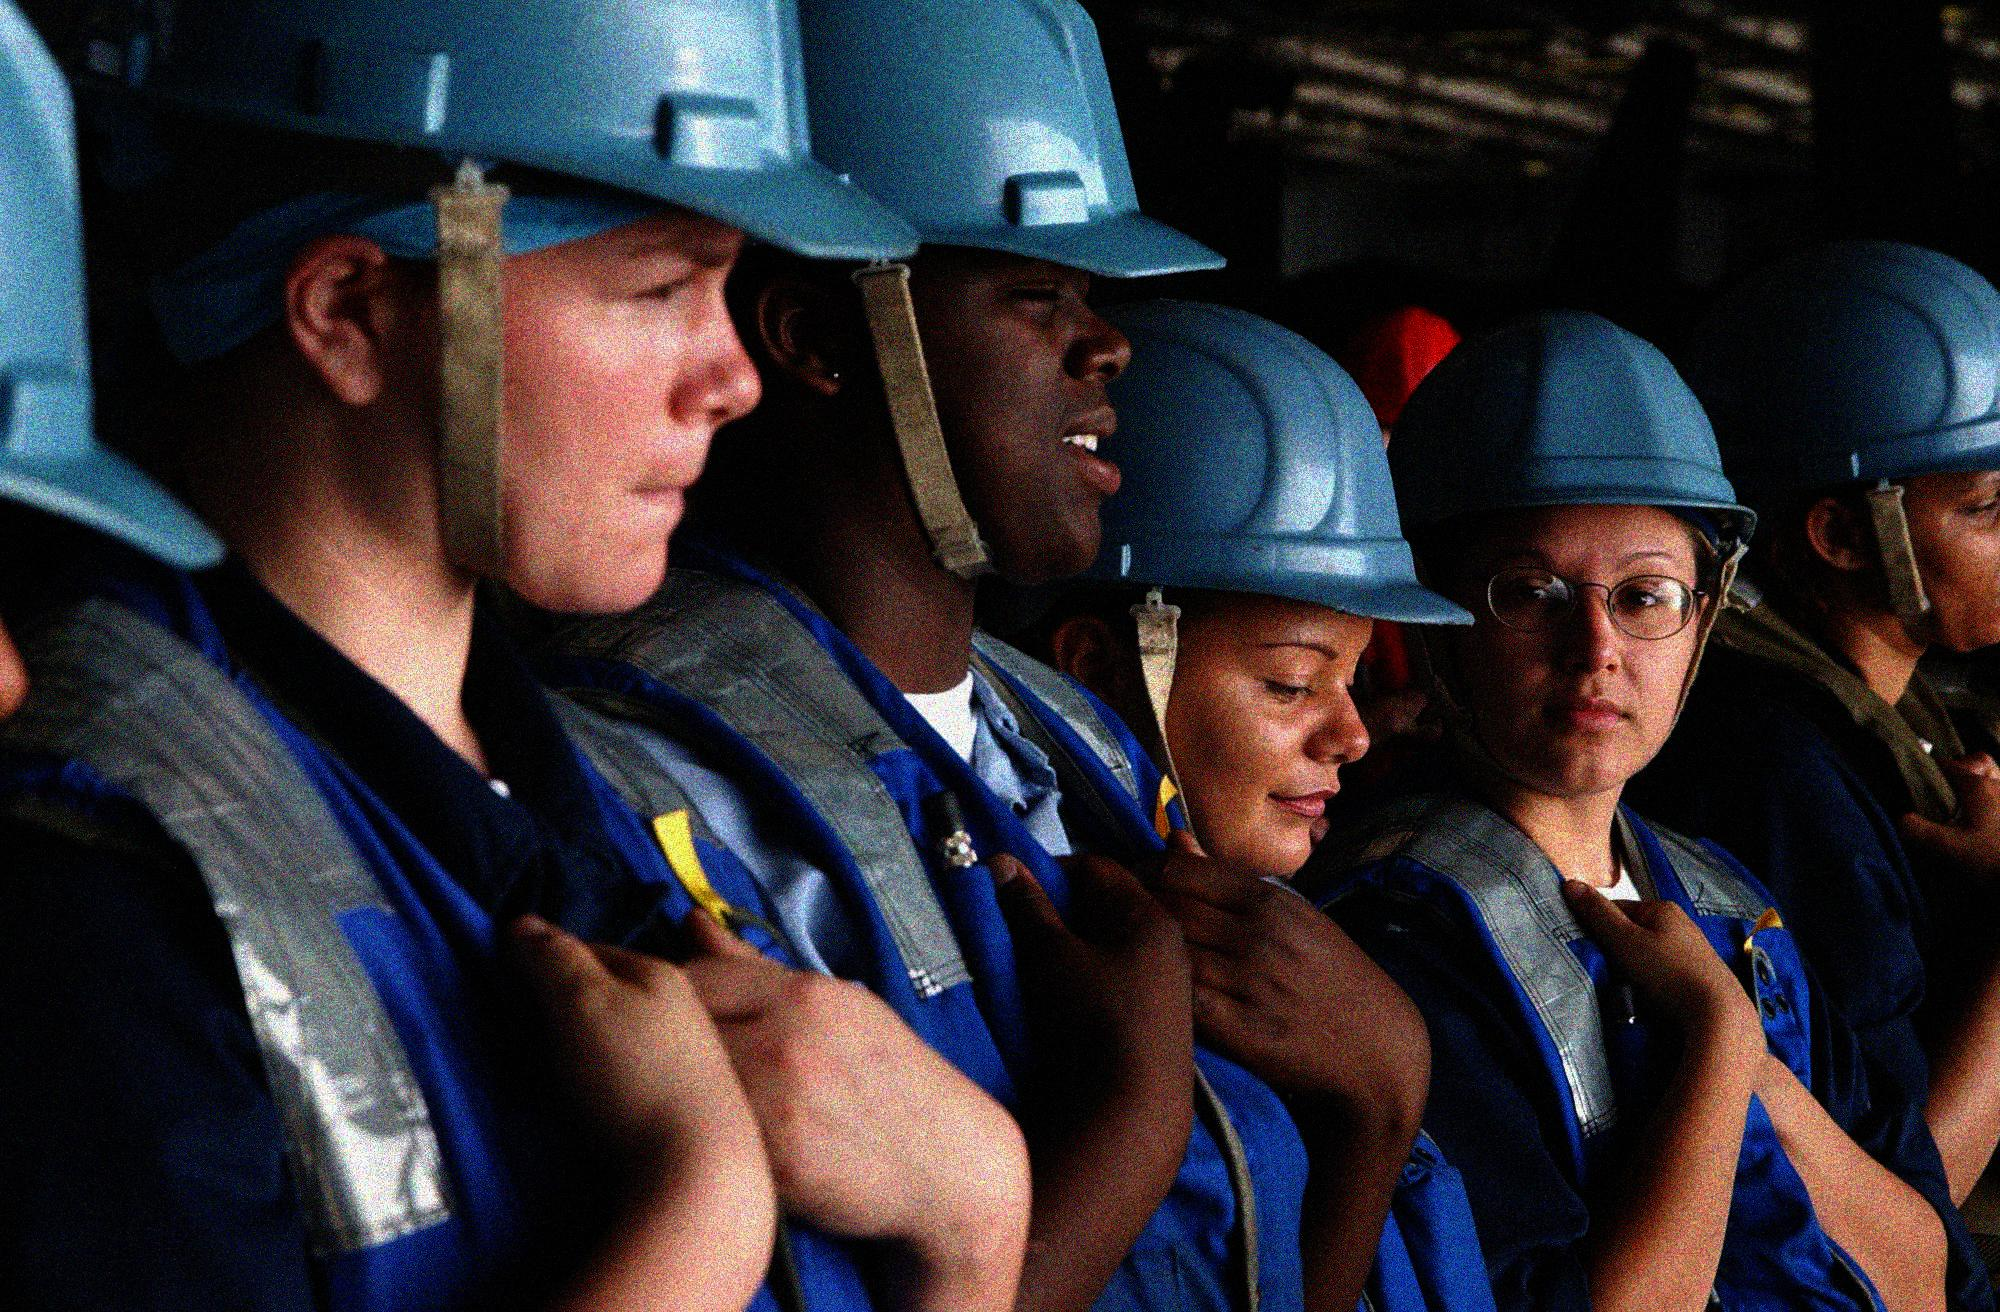helmet: (167, 1, 911, 618), (757, 1, 1223, 575), (1040, 290, 1477, 884), (1392, 307, 1761, 794), (1, 1, 230, 738), (1685, 242, 2000, 649)
